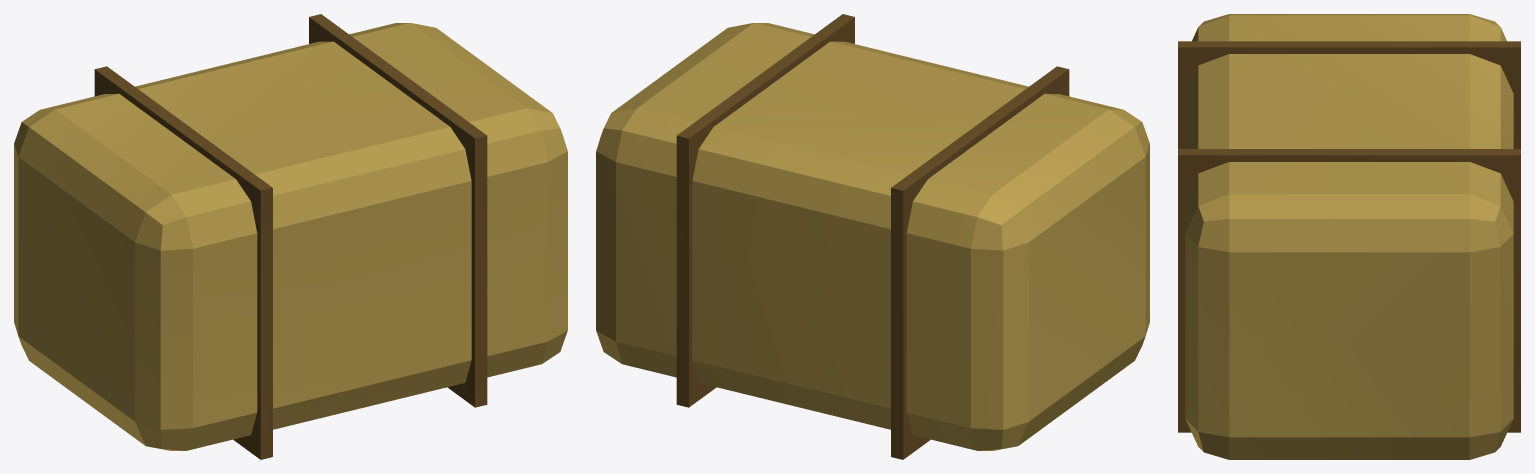
Rendered from hay.glb.
The picture shows the model from 3 angles, left to right: view 1: azimuth 30°, elevation 25°; view 2: azimuth 150°, elevation 25°; view 3: azimuth 270°, elevation 25°; orthographic projection. The views are drawn at different scales.
Parts seen in each view (by area): view 1: hay; view 2: hay; view 3: hay.
Part boxes in pixels (x1,y1,x2,y2): hay: [14, 14, 567, 459]; hay: [596, 14, 1149, 459]; hay: [1178, 14, 1520, 459].
Bounding box in the file's own units: 1.4 × 0.84 × 0.94.
